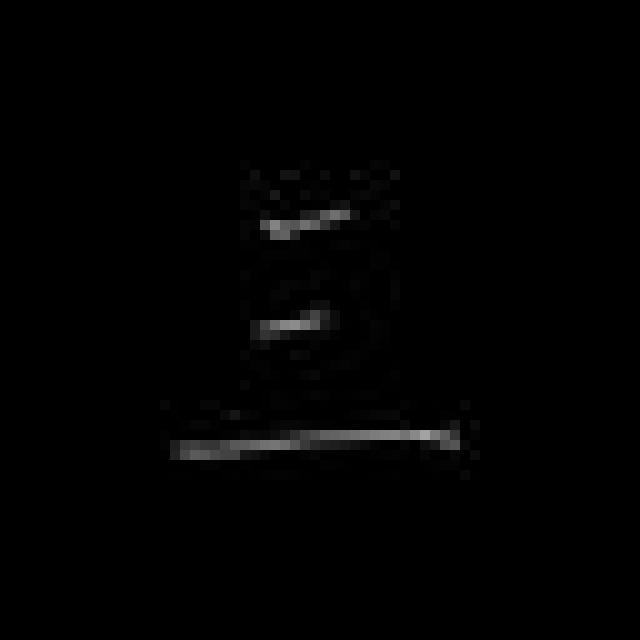3 -three-: (157, 192, 477, 475)
